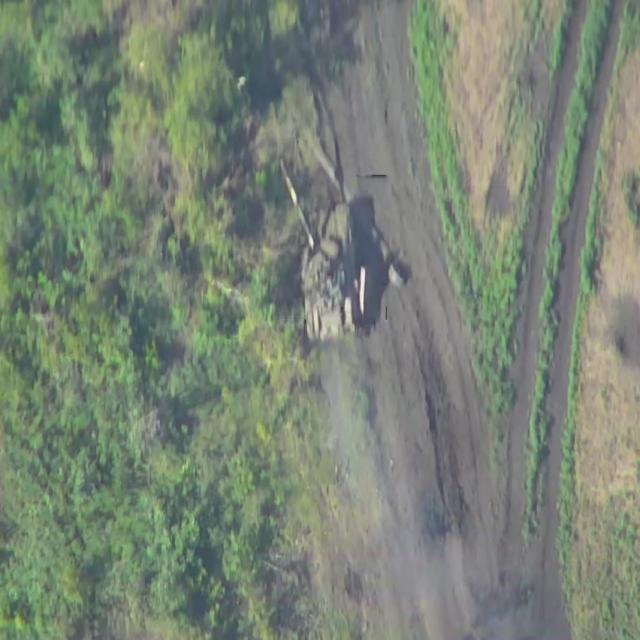MBT: (280, 153, 365, 347)
